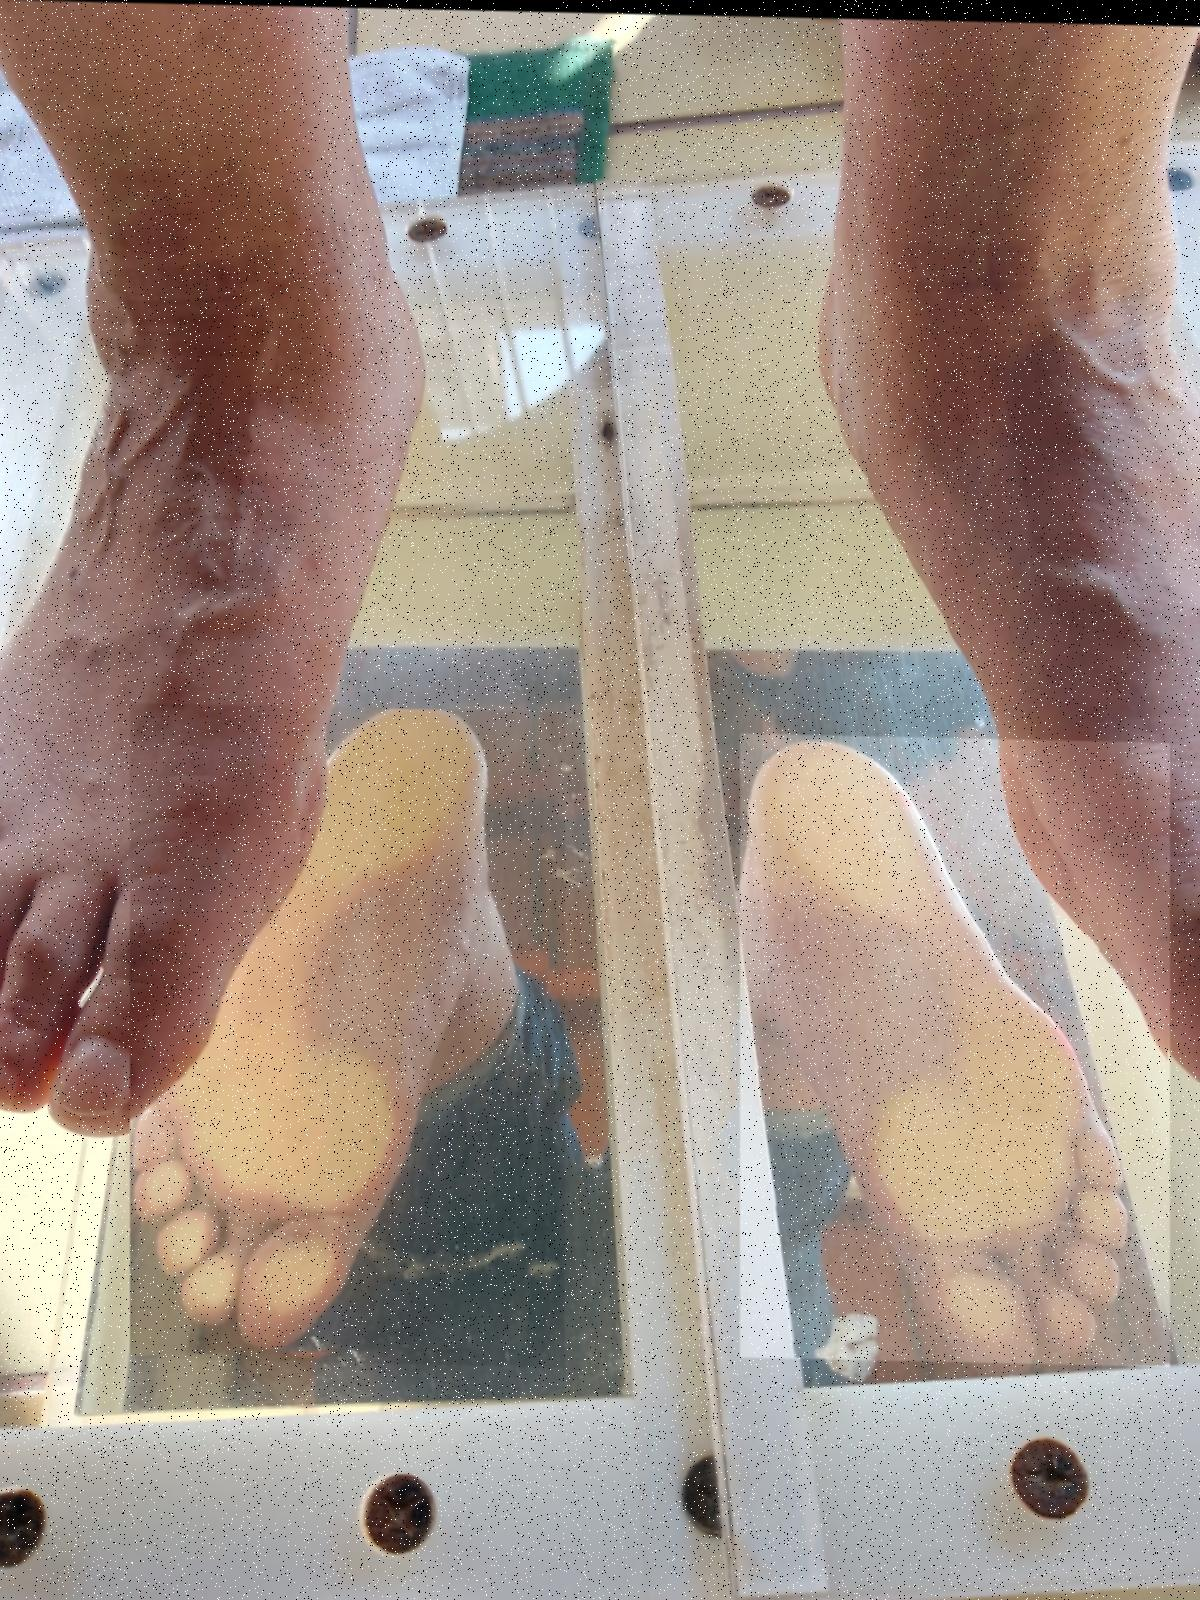9: (130, 702, 565, 1364)
Present: (740, 731, 1170, 1363)
